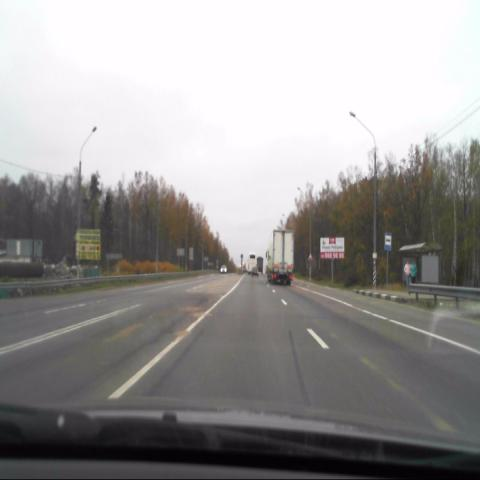5_16: (384, 233, 391, 251)
